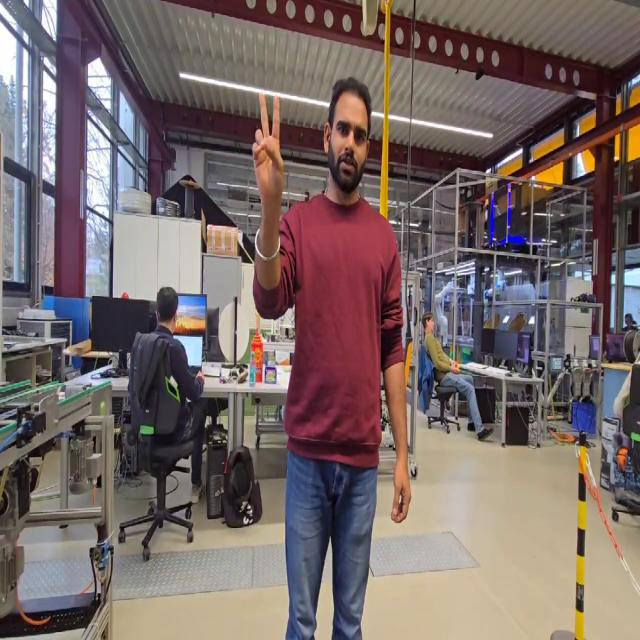v_sign: (250, 88, 286, 203)
